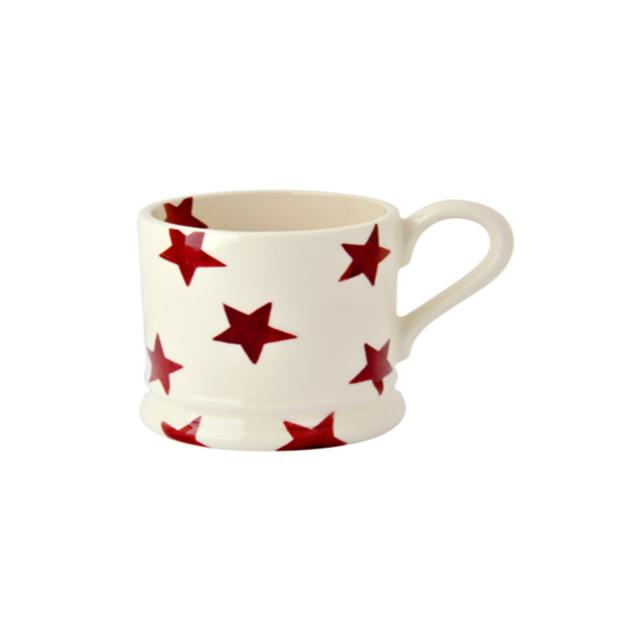glass cup: (135, 188, 514, 453)
